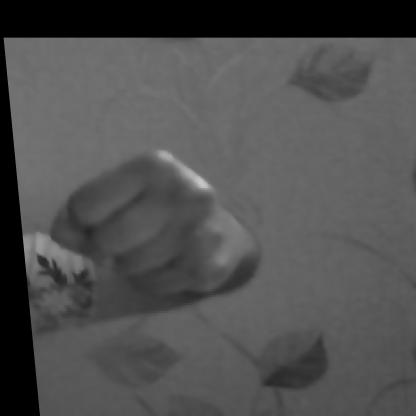fist: (24, 139, 269, 331)
